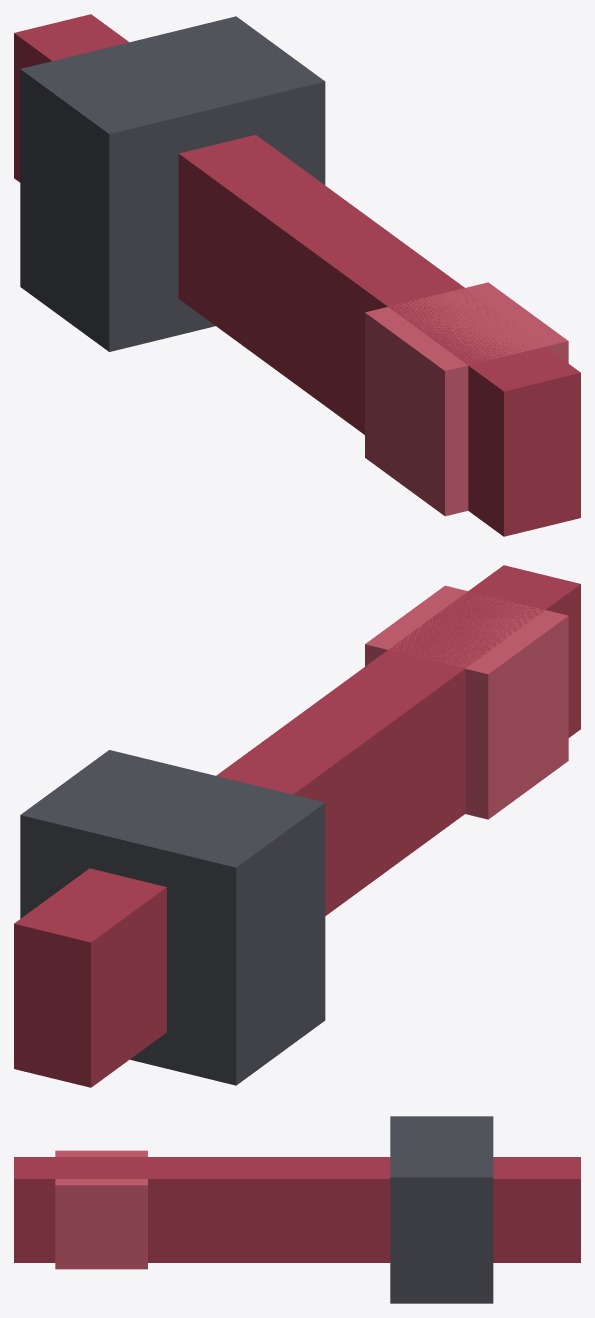
The model's file is blade_prop_v01.glb.
3 views of the same model, one above another, from view 1: azimuth 30°, elevation 25°; view 2: azimuth 150°, elevation 25°; view 3: azimuth 270°, elevation 25° (orthographic). The views are drawn at different scales.
Visible parts, largest first — view 1: box_0, box_1, box_2; view 2: box_0, box_1, box_2; view 3: box_0, box_1, box_2.
Boxes of the visible parts, bbox=[...] form: box_0: bbox=[14, 14, 580, 536]; box_1: bbox=[20, 16, 325, 351]; box_2: bbox=[365, 282, 568, 516]; box_0: bbox=[14, 565, 580, 1087]; box_1: bbox=[20, 750, 325, 1085]; box_2: bbox=[365, 585, 568, 819]; box_0: bbox=[14, 1157, 580, 1262]; box_1: bbox=[390, 1116, 493, 1303]; box_2: bbox=[55, 1150, 147, 1269].
Size of the model in its own units: 0.28 by 0.27 by 1.1.
